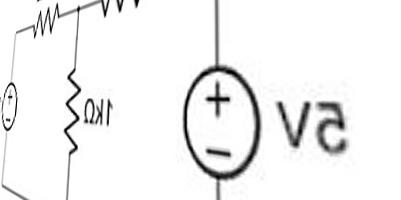resistor: (49, 64, 81, 161), (22, 0, 64, 38)
